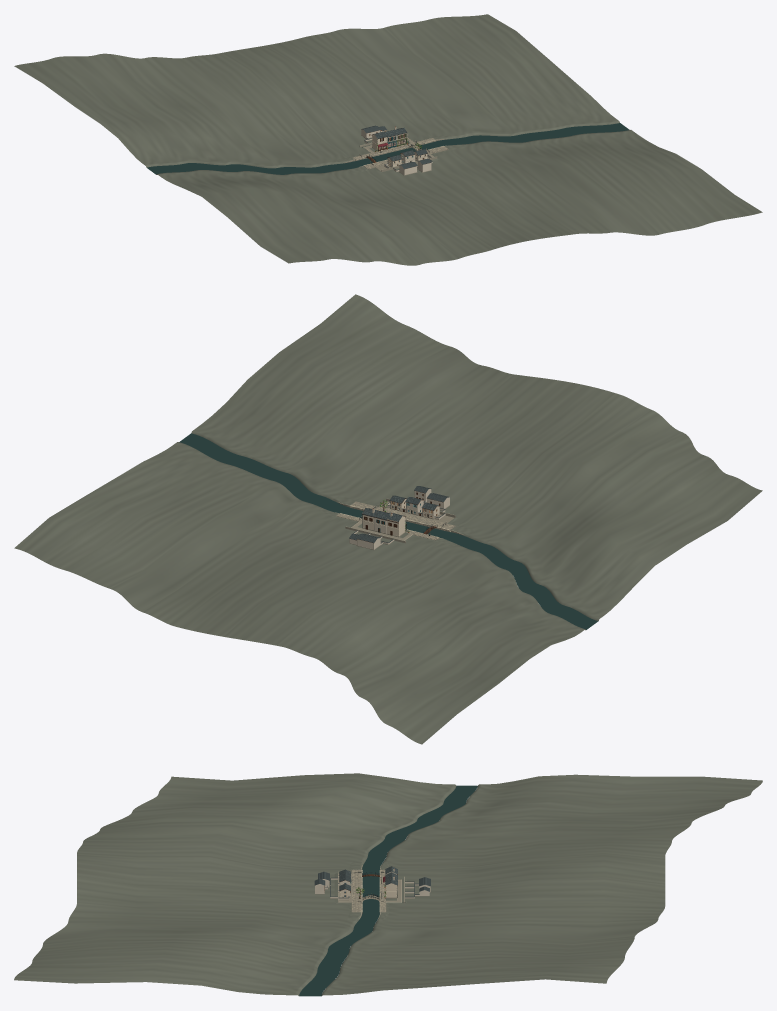
The model's file is space-03.glb.
3 views of the same model, one above another, from view 1: azimuth 30°, elevation 25°; view 2: azimuth 150°, elevation 25°; view 3: azimuth 270°, elevation 25° (orthographic). The views are drawn at different scales.
Visible parts, largest first — view 1: ROAM01_Surface / EXT_B02_DampMineralGround, ROAM01_Water, ROAM01_Surface / roof, ROAM01_Surface / plaster_alt, ROAM01_Surface / paving, ROAM01_Surface / stone; view 2: ROAM01_Surface / EXT_B02_DampMineralGround, ROAM01_Water, ROAM01_Surface / paving, ROAM01_Surface / roof, ROAM01_Surface / plaster_alt, ROAM01_Surface / stone; view 3: ROAM01_Surface / EXT_B02_DampMineralGround, ROAM01_Water, ROAM01_Surface / paving, ROAM01_Surface / roof, ROAM01_Surface / plaster_alt.
Boxes of the visible parts, x1,y1,x2,y2 form: ROAM01_Surface / EXT_B02_DampMineralGround: (14, 14, 762, 265); ROAM01_Water: (147, 123, 629, 174); ROAM01_Surface / roof: (361, 125, 432, 170); ROAM01_Surface / plaster_alt: (361, 129, 432, 174); ROAM01_Surface / paving: (353, 137, 448, 171); ROAM01_Surface / stone: (344, 130, 447, 175); ROAM01_Surface / EXT_B02_DampMineralGround: (14, 294, 762, 744); ROAM01_Water: (179, 433, 598, 629); ROAM01_Surface / paving: (336, 501, 455, 540); ROAM01_Surface / roof: (349, 486, 449, 543); ROAM01_Surface / plaster_alt: (349, 489, 449, 549); ROAM01_Surface / stone: (335, 491, 463, 549); ROAM01_Surface / EXT_B02_DampMineralGround: (14, 773, 762, 995); ROAM01_Water: (299, 785, 477, 996); ROAM01_Surface / paving: (338, 869, 401, 912); ROAM01_Surface / roof: (314, 866, 430, 898); ROAM01_Surface / plaster_alt: (315, 876, 430, 899).
Bounding box in the file's own units: 245 × 11.32 × 368.
